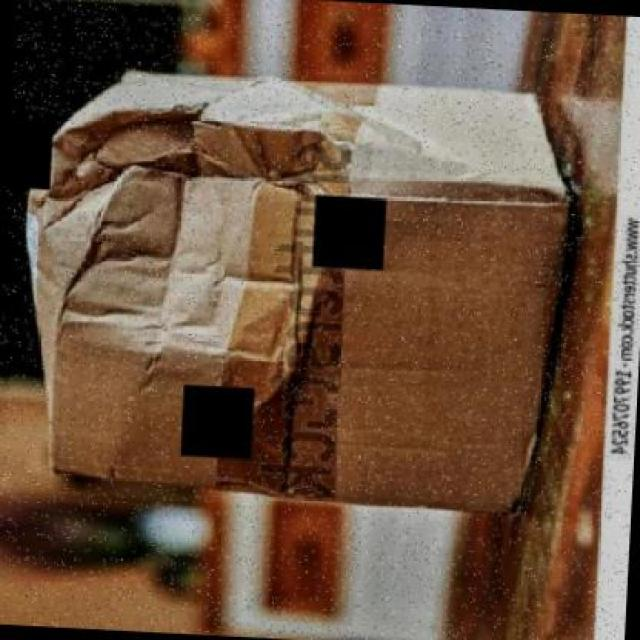box: (3, 53, 579, 521)
